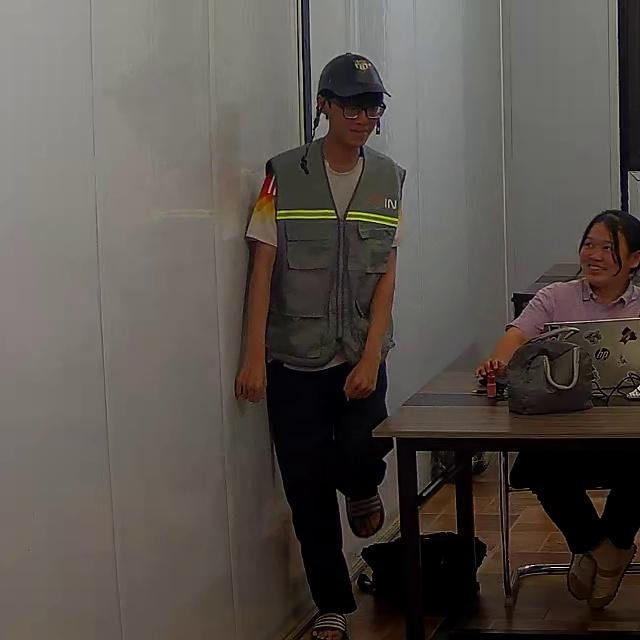helmet: (316, 51, 392, 100)
no_helmet: (580, 208, 640, 275)
none: (508, 274, 639, 340)
vest: (254, 139, 401, 369)
